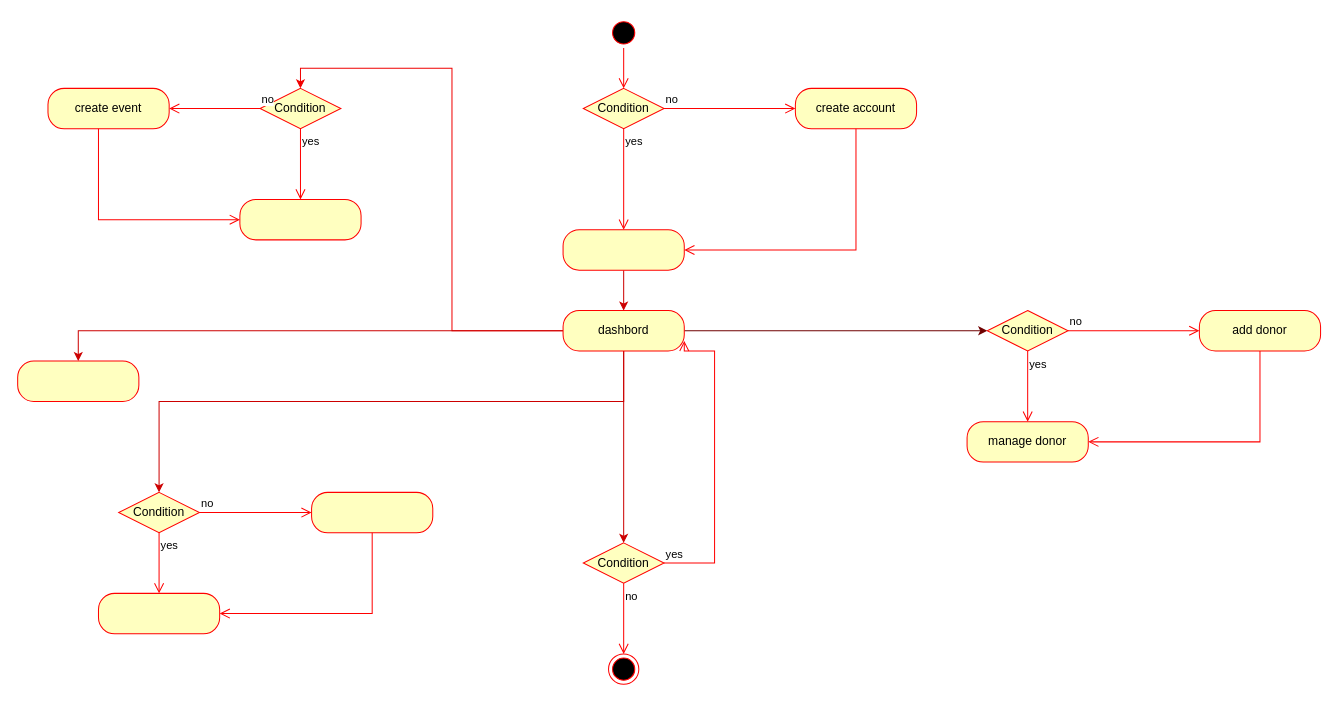
Some shapes in this 1338 by 702 pixel diagram are drawn without their labels. Here are the shapes that lost their labels. From the top down, the centre of each, then its label:
At point 300,219: "manage events".
At point 623,249: "login".
At point 78,380: "manage donations".
At point 372,512: "add a staff".
At point 158,613: "manage staff".
